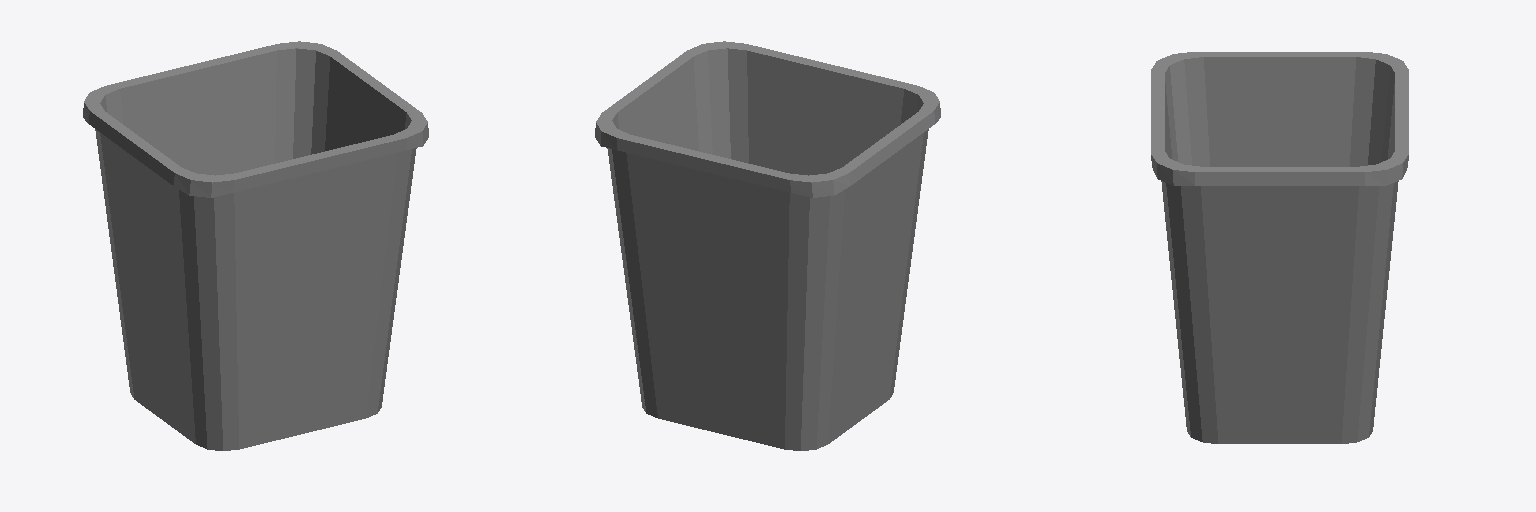
File: trash.obj
3 views of the same model, side by side, from view 1: azimuth 30°, elevation 25°; view 2: azimuth 150°, elevation 25°; view 3: azimuth 270°, elevation 25° (orthographic).
Visible parts, largest first — view 1: OBJ_bin; view 2: OBJ_bin; view 3: OBJ_bin.
Boxes of the visible parts, <box> form: OBJ_bin: <box>83,41,428,450</box>; OBJ_bin: <box>595,41,940,450</box>; OBJ_bin: <box>1151,52,1408,443</box>.
Bounding box in the file's own units: 91.31 × 101 × 81.59.